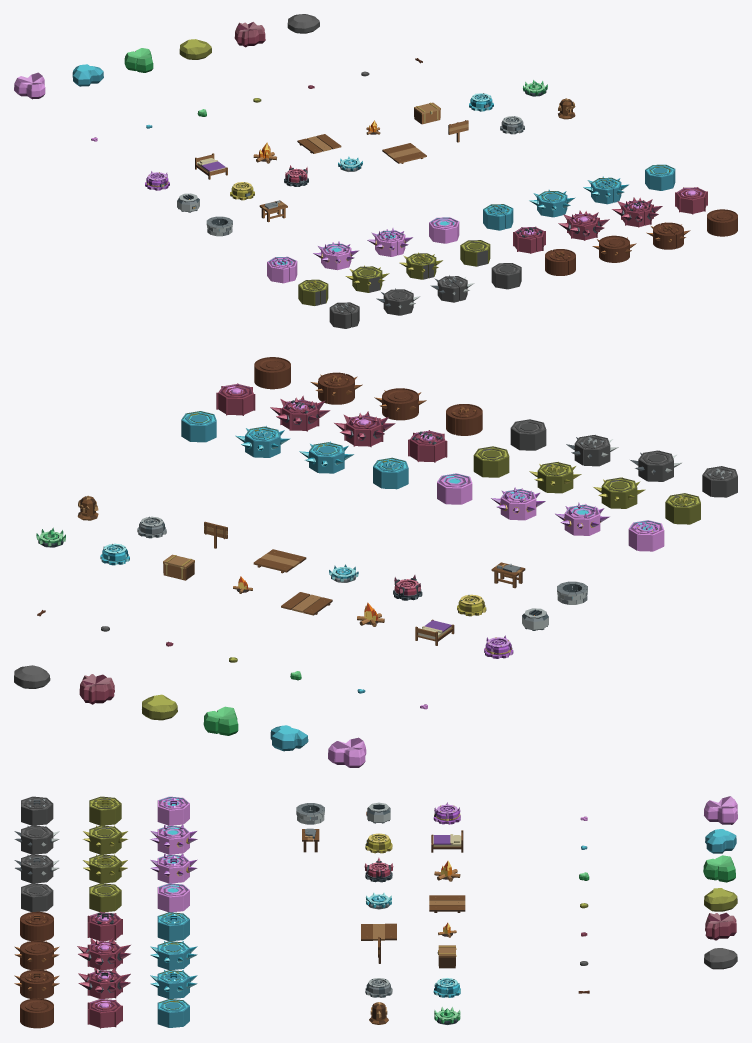
File: mundo-completo.fbx
The picture shows the model from 3 angles, top to bottom: view 1: azimuth 30°, elevation 25°; view 2: azimuth 150°, elevation 25°; view 3: azimuth 270°, elevation 25°; orthographic projection. The views are drawn at different scales.
Visible parts, largest first — view 1: reidite_spike_body, wood_spike_body, amethyst_spike_body, diamond_spike_body, gold_spike_body, stone_spike_body, reidite_wall_body, wood_wall_body, amethyst_wall_body, diamond_wall_body, gold_wall_body, stone_wall_body (+10 smaller); view 2: reidite_spike_body, wood_spike_body, amethyst_spike_body, diamond_spike_body, gold_spike_body, reidite_wall_body, wood_wall_body, stone_spike_body, gold_wall_body, stone_wall_body, amethyst_wall_body, diamond_wall_body (+18 smaller); view 3: reidite_spike_body, wood_spike_body, amethyst_spike_body, diamond_spike_body, gold_spike_body, stone_spike_body, wood_wall_body, reidite_wall_body, amethyst_wall_body, diamond_wall_body, gold_wall_body, stone_wall_body (+28 smaller).
Part boxes in pixels (bbox=[...]): reidite_spike_body: bbox=[558, 210, 609, 240]; wood_spike_body: bbox=[592, 235, 636, 262]; amethyst_spike_body: bbox=[313, 241, 359, 270]; diamond_spike_body: bbox=[529, 189, 575, 217]; gold_spike_body: bbox=[345, 265, 389, 292]; stone_spike_body: bbox=[376, 288, 420, 315]; reidite_wall_body: bbox=[675, 187, 707, 214]; wood_wall_body: bbox=[707, 209, 737, 236]; amethyst_wall_body: bbox=[429, 217, 459, 243]; diamond_wall_body: bbox=[645, 164, 675, 190]; gold_wall_body: bbox=[460, 240, 490, 266]; stone_wall_body: bbox=[491, 263, 521, 289]; reidite_spike_body: bbox=[334, 411, 395, 447]; wood_spike_body: bbox=[374, 388, 426, 420]; amethyst_spike_body: bbox=[555, 502, 609, 535]; diamond_spike_body: bbox=[299, 441, 353, 473]; gold_spike_body: bbox=[593, 477, 645, 508]; reidite_wall_body: bbox=[216, 383, 255, 415]; wood_wall_body: bbox=[254, 357, 290, 389]; stone_spike_body: bbox=[630, 450, 682, 481]; gold_wall_body: bbox=[473, 446, 509, 477]; stone_wall_body: bbox=[510, 419, 546, 450]; amethyst_wall_body: bbox=[437, 473, 472, 504]; diamond_wall_body: bbox=[181, 411, 216, 442]; reidite_spike_body: bbox=[77, 938, 130, 969]; wood_spike_body: bbox=[14, 940, 59, 969]; amethyst_spike_body: bbox=[150, 824, 197, 854]; diamond_spike_body: bbox=[150, 941, 197, 969]; gold_spike_body: bbox=[83, 825, 127, 854]; stone_spike_body: bbox=[14, 825, 59, 854]; wood_wall_body: bbox=[20, 998, 53, 1028]; reidite_wall_body: bbox=[87, 998, 122, 1028]; amethyst_wall_body: bbox=[157, 883, 189, 912]; diamond_wall_body: bbox=[157, 999, 189, 1027]; gold_wall_body: bbox=[89, 883, 121, 912]; stone_wall_body: bbox=[21, 883, 53, 912].
Size of the model in its own units: 60.12 by 3.07 by 84.7.
1 material, 1 textured.
